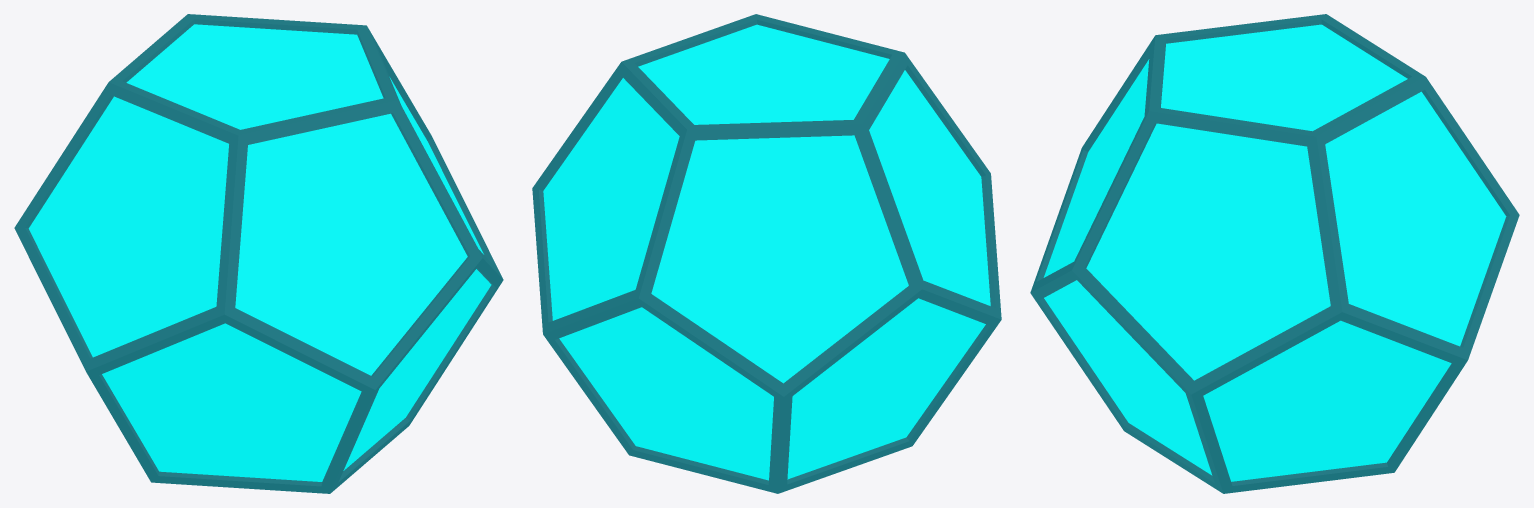
The model's file is SFI0210005.fbx.
3 renders of one model, left to right at view 1: azimuth 30°, elevation 25°; view 2: azimuth 150°, elevation 25°; view 3: azimuth 270°, elevation 25°, orthographic. The views are drawn at different scales.
Visible parts, largest first — view 1: smSFI0210005; view 2: smSFI0210005; view 3: smSFI0210005.
Boxes of the visible parts, x1,y1,x2,y2 form: smSFI0210005: (14, 14, 503, 493); smSFI0210005: (532, 14, 1001, 493); smSFI0210005: (1030, 14, 1519, 493).
Bounding box in the file's own units: 134 × 113 × 139.
